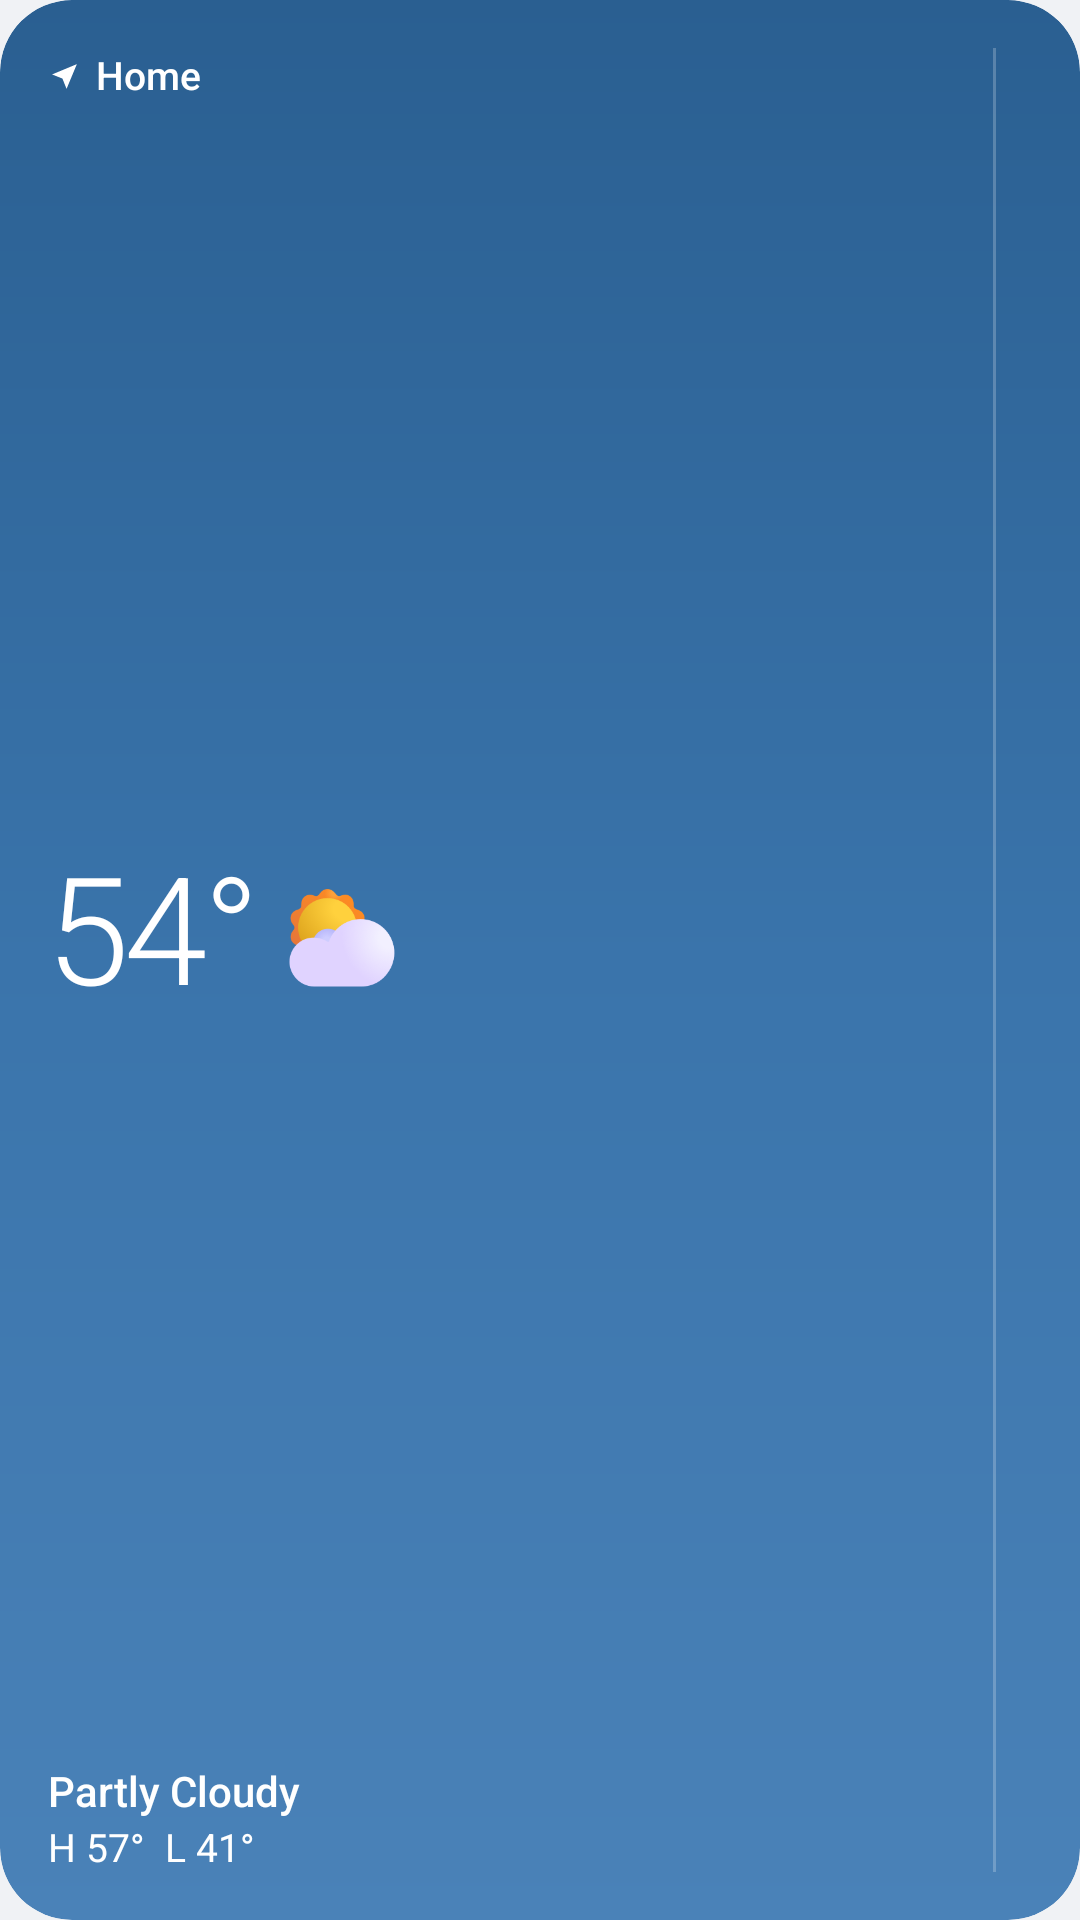

Where icons sit on this 1080×1920 app screen, as (x1, y1, x2, y2):
sun cloud: (289, 889, 395, 987)
